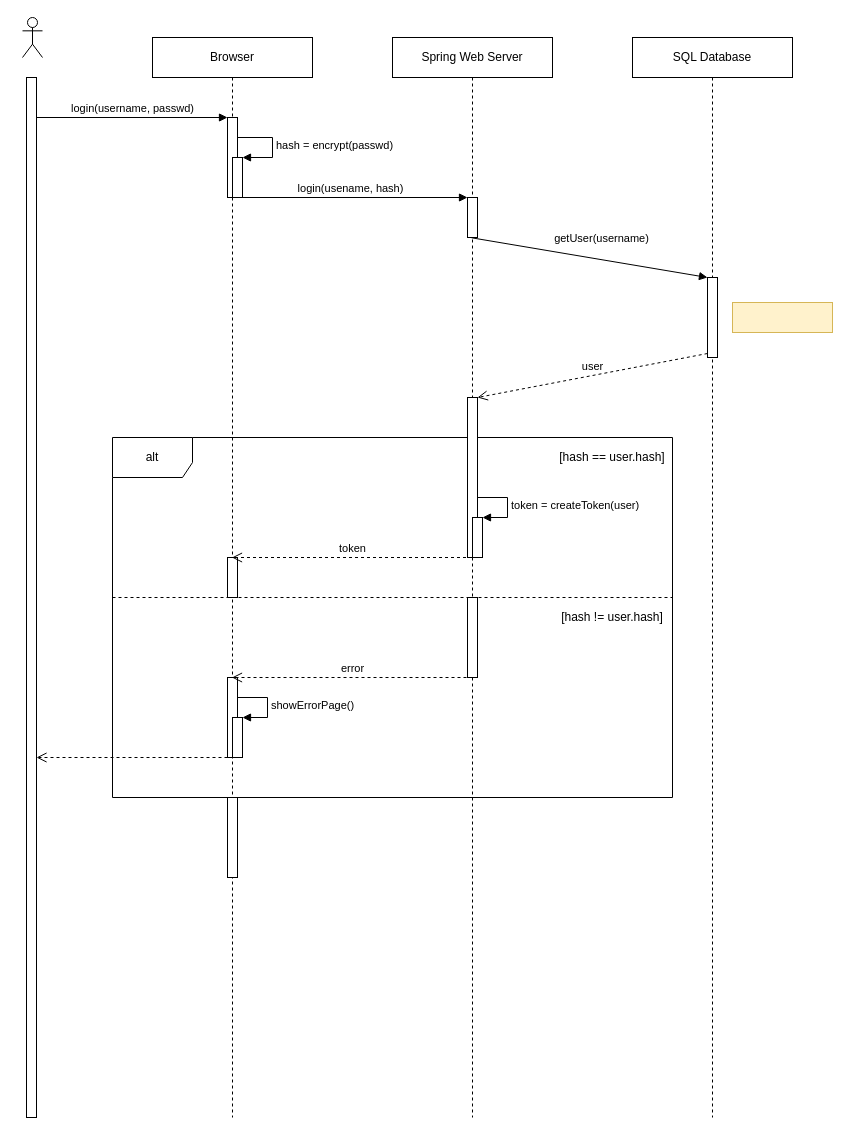
This 850x1135 diagram has some shape labels left out. The box of each missing label's shape, as (x1, y1, x2, y2) in pixels:
Client: (22, 16, 42, 58)
Error on User does not exist: (732, 302, 832, 332)
